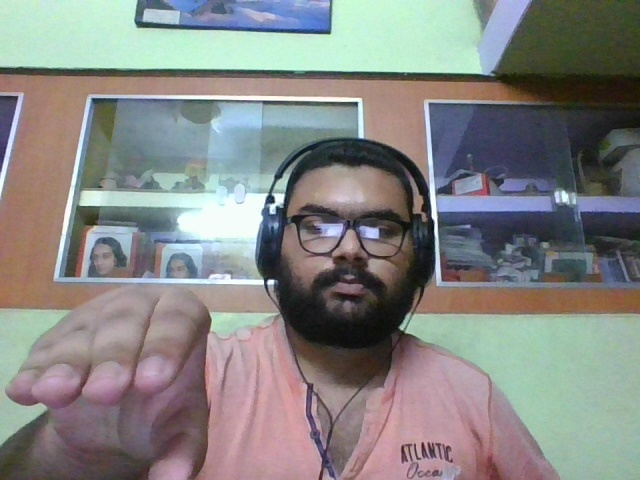no: (3, 284, 209, 479)
